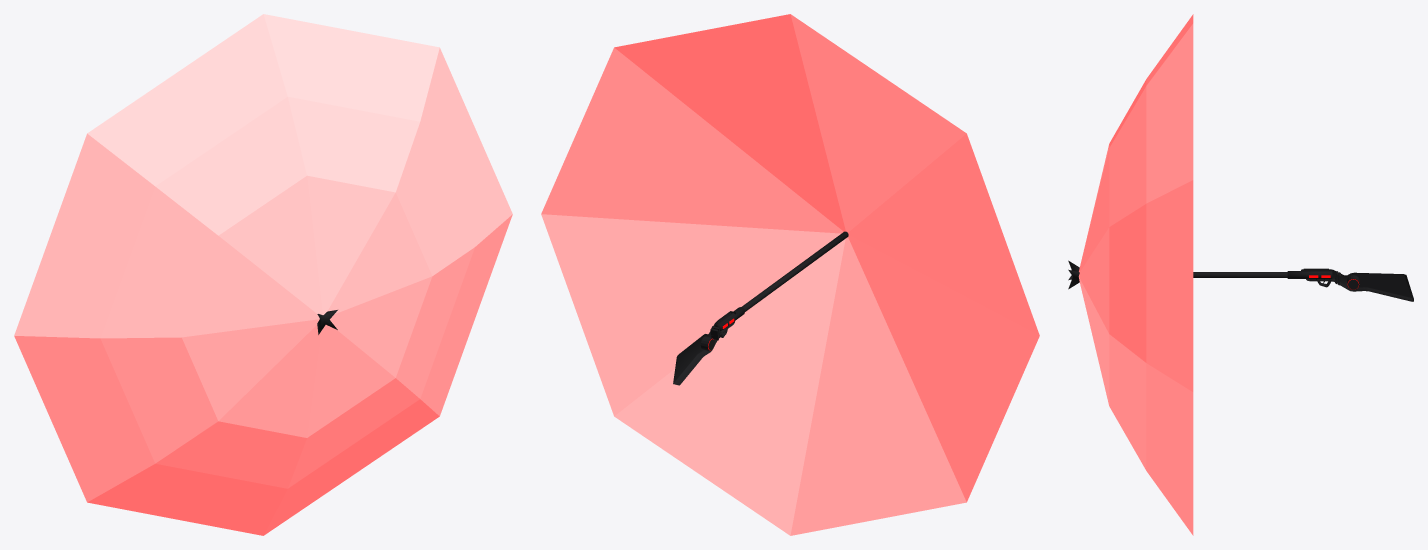
The model's file is gunbrella.fbx.
3 renders of one model, left to right at view 1: azimuth 30°, elevation 25°; view 2: azimuth 150°, elevation 25°; view 3: azimuth 270°, elevation 25°, orthographic. The views are drawn at different scales.
Visible parts, largest first — view 1: Cube.018; view 2: Cube.018; view 3: Cube.018.
Boxes of the visible parts, x1,y1,x2,y2 form: Cube.018: [14, 14, 512, 535]; Cube.018: [541, 14, 1039, 535]; Cube.018: [1068, 14, 1413, 535].
Size of the model in its own units: 319 by 513 by 513.
